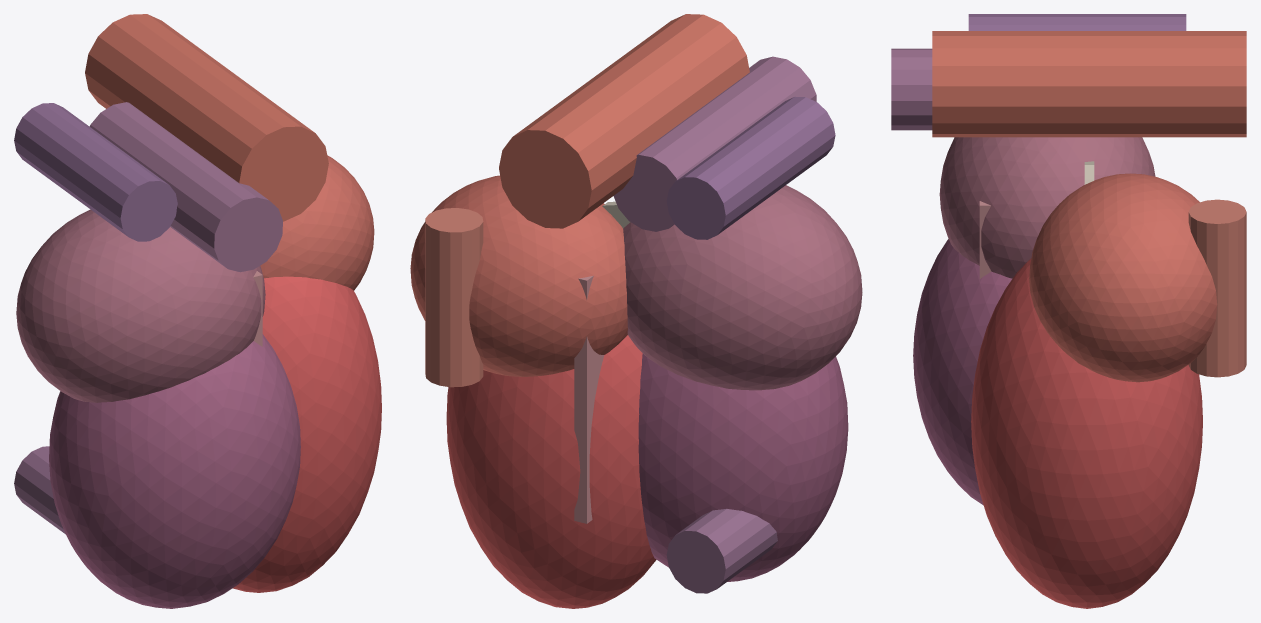
The model's file is heart.glb.
The picture shows the model from 3 angles, left to right: view 1: azimuth 30°, elevation 25°; view 2: azimuth 150°, elevation 25°; view 3: azimuth 270°, elevation 25°; orthographic projection. The views are drawn at different scales.
Visible parts, largest first — view 1: right-ventricle, right-atrium, left-ventricle, aorta, pulmonary-artery, superior-vena-cava, left-atrium, inferior-vena-cava; view 2: left-ventricle, right-atrium, right-ventricle, aorta, left-atrium, superior-vena-cava, pulmonary-artery, pulmonary-vein, inferior-vena-cava, septum; view 3: left-ventricle, aorta, left-atrium, right-atrium, right-ventricle, pulmonary-vein, superior-vena-cava, pulmonary-artery.
Boxes of the visible parts, left/top/right/bottom form: right-ventricle: left=49, top=334, right=300, bottom=608; right-atrium: left=16, top=209, right=265, bottom=402; left-ventricle: left=232, top=276, right=381, bottom=592; aorta: left=85, top=14, right=328, bottom=221; pulmonary-artery: left=89, top=102, right=282, bottom=272; superior-vena-cava: left=14, top=103, right=177, bottom=241; left-atrium: left=260, top=155, right=374, bottom=290; inferior-vena-cava: left=14, top=446, right=65, bottom=534; left-ventricle: left=446, top=335, right=656, bottom=608; right-atrium: left=623, top=185, right=862, bottom=390; right-ventricle: left=638, top=353, right=848, bottom=581; aorta: left=499, top=14, right=749, bottom=228; left-atrium: left=410, top=175, right=627, bottom=376; superior-vena-cava: left=666, top=96, right=835, bottom=239; pulmonary-artery: left=613, top=56, right=816, bottom=231; pulmonary-vein: left=425, top=208, right=483, bottom=387; inferior-vena-cava: left=666, top=508, right=777, bottom=593; septum: left=574, top=275, right=604, bottom=523; left-ventricle: left=971, top=258, right=1202, bottom=608; aorta: left=932, top=31, right=1246, bottom=137; left-atrium: left=1029, top=173, right=1217, bottom=382; right-atrium: left=939, top=137, right=1155, bottom=278; right-ventricle: left=913, top=239, right=1012, bottom=505; pulmonary-vein: left=1188, top=199, right=1246, bottom=377; superior-vena-cava: left=968, top=14, right=1186, bottom=30; pulmonary-artery: left=891, top=48, right=932, bottom=130.
Bounding box in the file's own units: 1.83 × 2.46 × 1.47.
